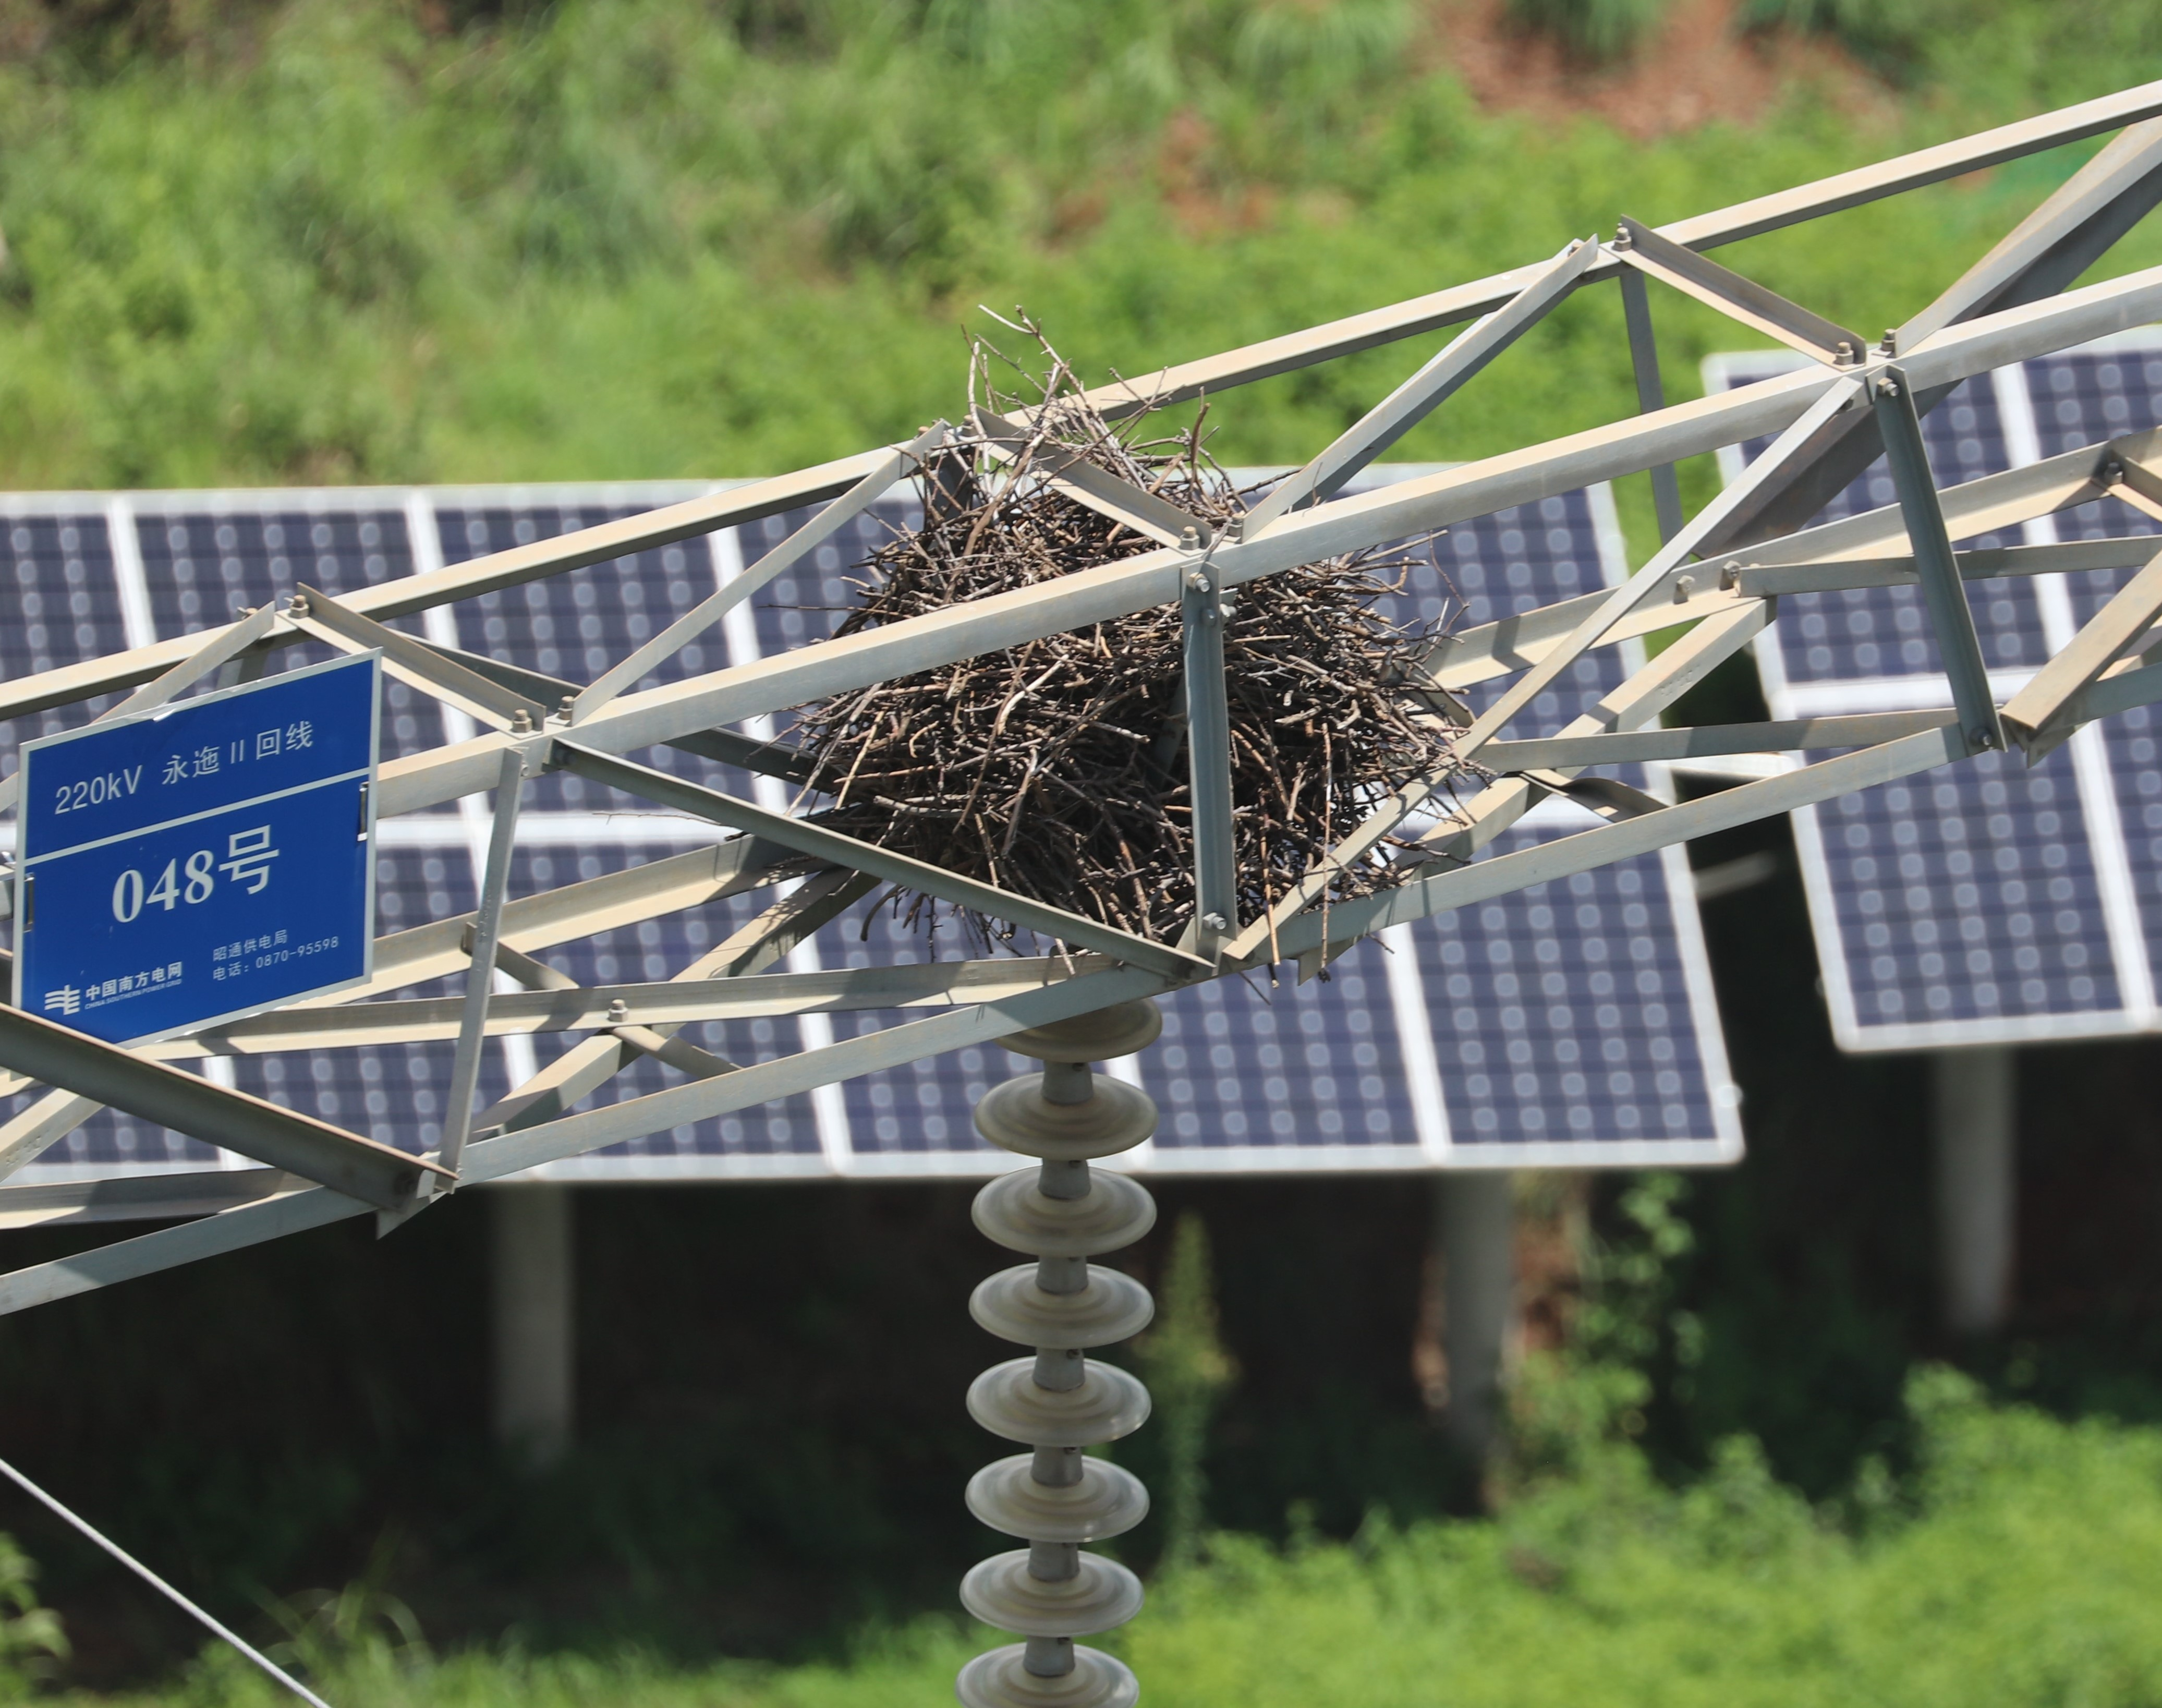niaowo: (811, 421, 1444, 1013)
